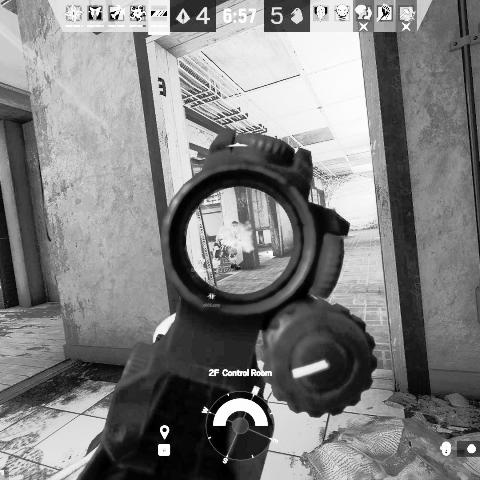Character: (211, 220, 243, 276)
Friend_label: (191, 256, 212, 273), (202, 290, 221, 308)
Head: (230, 220, 240, 234)
